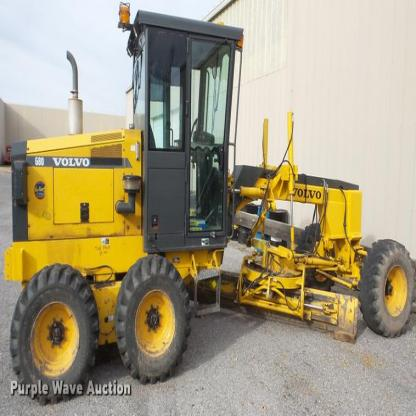bull_dozer/loader/grader: (6, 6, 416, 393)
